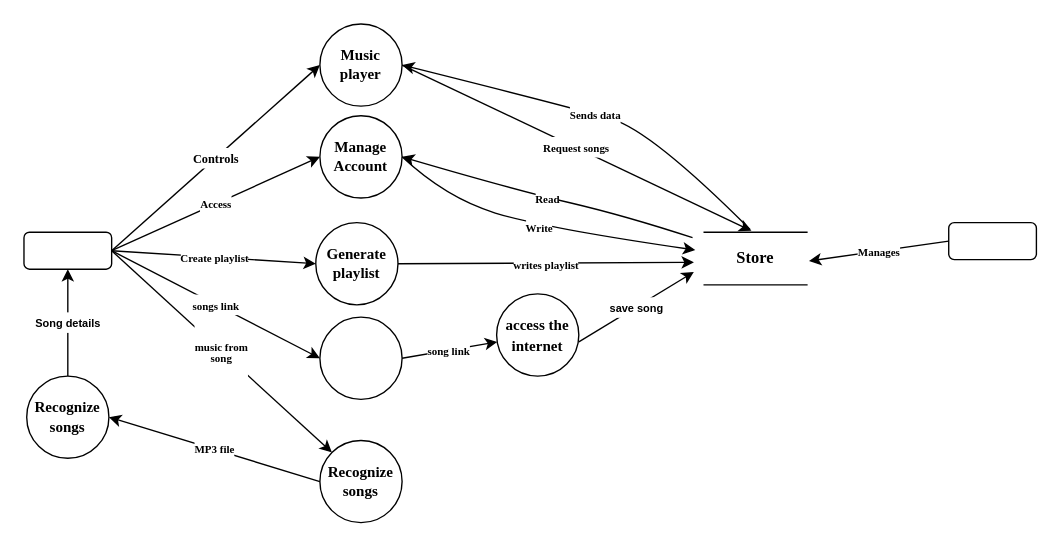
Image size: 1060x547. Some labels were removed from this diagram. Here are the shapes that lost their labels. From the top down, the centre of each, then its label:
(67,250): User
(991,240): Admin
(360,357): Download songs
